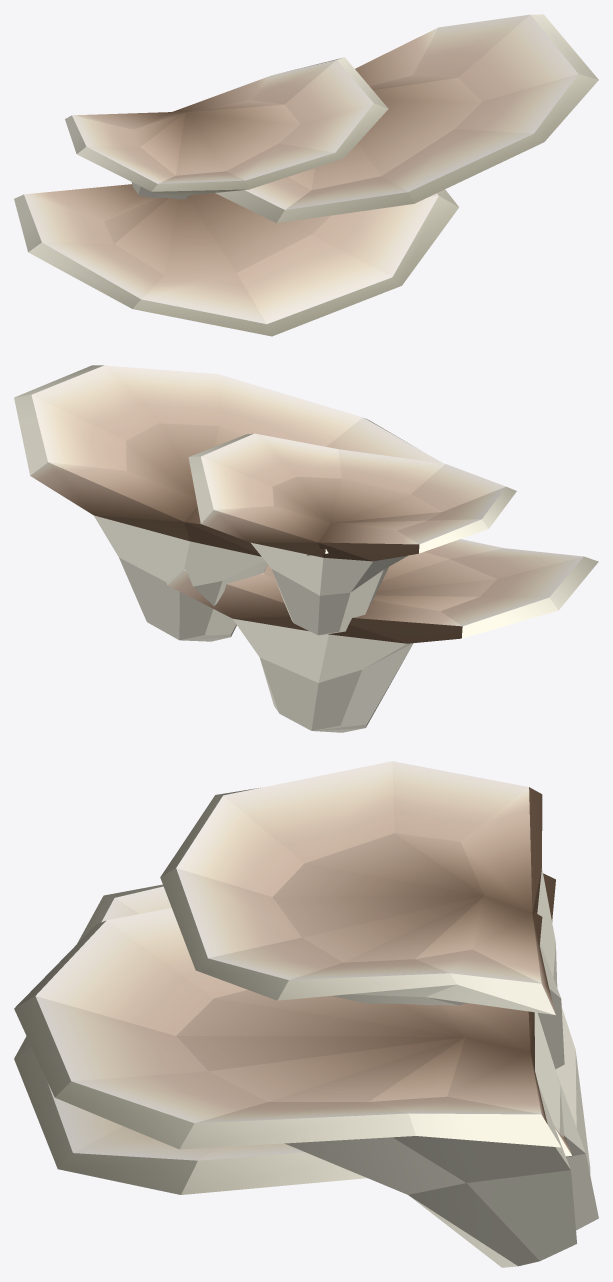
File: MushroomTree-02.FBX
3 renders of one model, top to bottom at view 1: azimuth 30°, elevation 25°; view 2: azimuth 150°, elevation 25°; view 3: azimuth 270°, elevation 25°, orthographic. The views are drawn at different scales.
Visible parts, largest first — view 1: MushroomTree-02; view 2: MushroomTree-02; view 3: MushroomTree-02.
Part boxes in pixels (left/top/right/bottom): MushroomTree-02: left=14, top=14, right=598, bottom=336; MushroomTree-02: left=14, top=365, right=598, bottom=732; MushroomTree-02: left=14, top=761, right=598, bottom=1267.
Size of the model in its own units: 110 by 46.2 by 59.35.
Materials: 1 (1 with a texture image).
